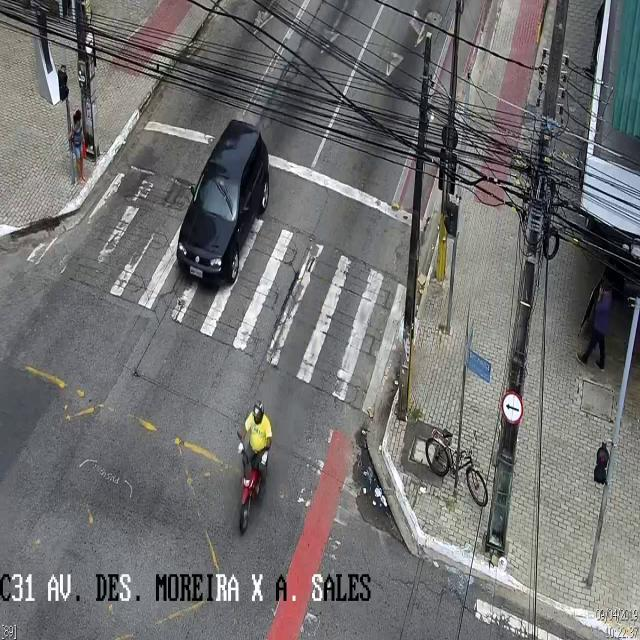Car: (176, 120, 270, 289)
Motorcycle: (236, 403, 272, 534)
